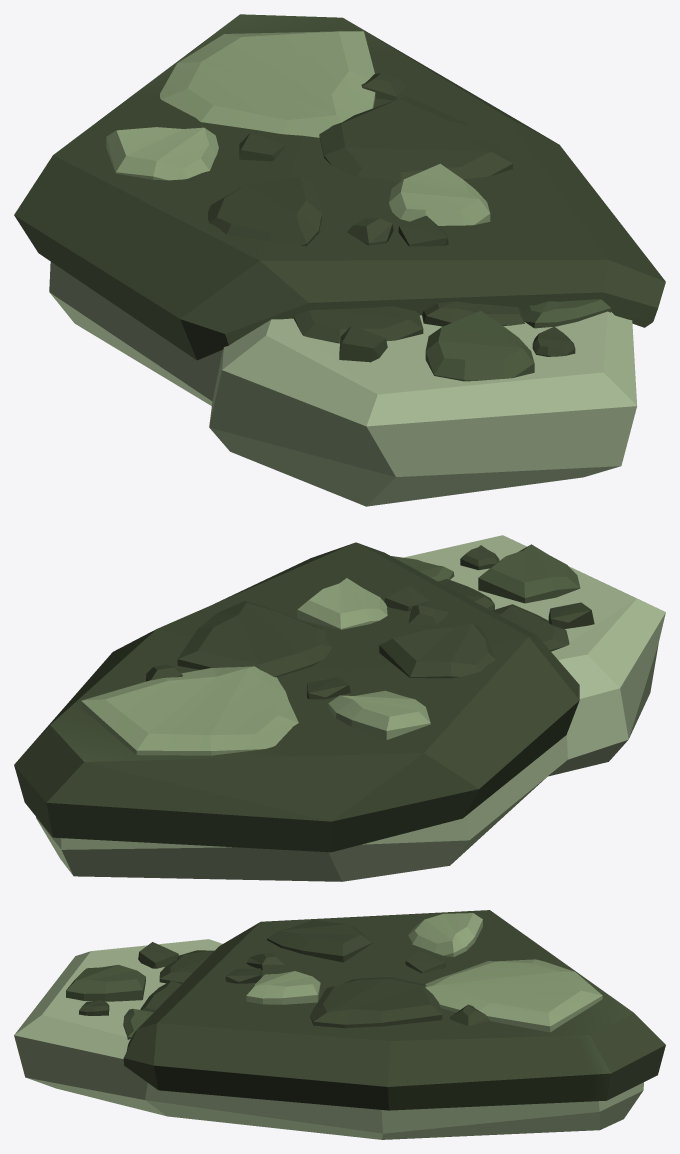
Rendered from EA_Swamp_RockBig_Moss_01c.glb.
3 views of the same model, one above another, from view 1: azimuth 30°, elevation 25°; view 2: azimuth 150°, elevation 25°; view 3: azimuth 270°, elevation 25° (orthographic). The views are drawn at different scales.
Parts seen in each view (by area): view 1: EA_Swamp_RockBig_Moss_01c; view 2: EA_Swamp_RockBig_Moss_01c; view 3: EA_Swamp_RockBig_Moss_01c.
Part boxes in pixels (bbox=[...]): EA_Swamp_RockBig_Moss_01c: bbox=[14, 14, 665, 506]; EA_Swamp_RockBig_Moss_01c: bbox=[14, 535, 665, 881]; EA_Swamp_RockBig_Moss_01c: bbox=[14, 910, 665, 1139].
Size of the model in its own units: 3.95 by 1.33 by 6.58.
1 material, 1 textured.
